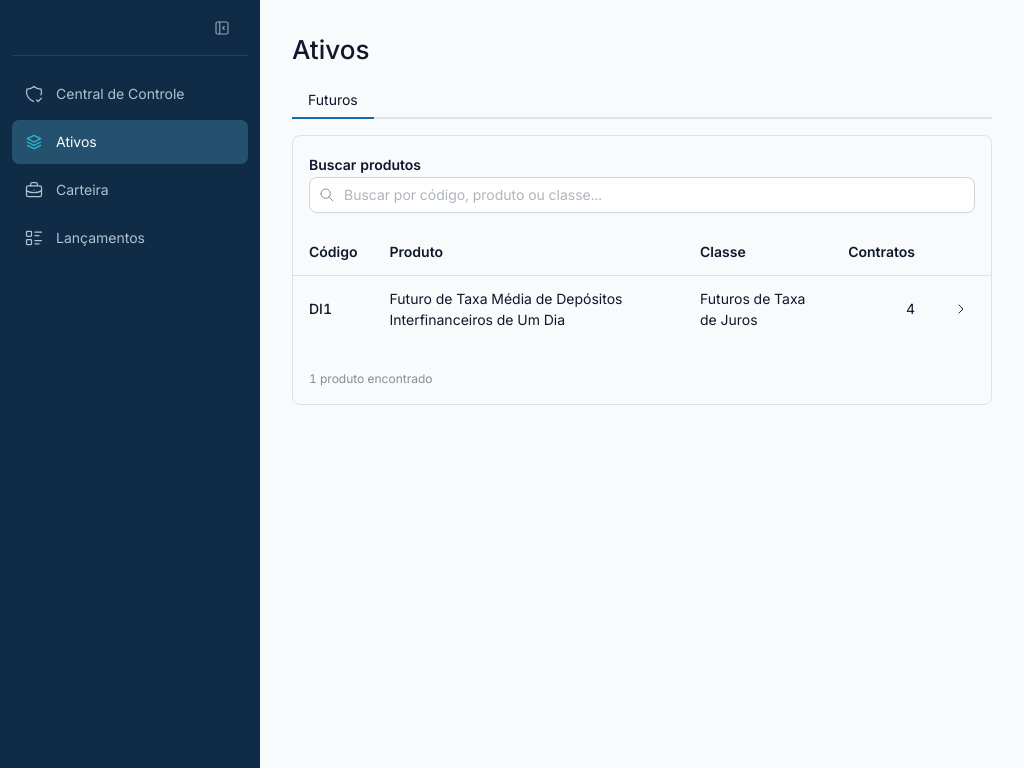
Test case: AppLayout › §11 collapses the sidebar and keeps every module reachable by name
Click the button named "Recolher navegação". click: coordinates (222, 28)
box: top-left (208, 14), bottom-right (236, 42)
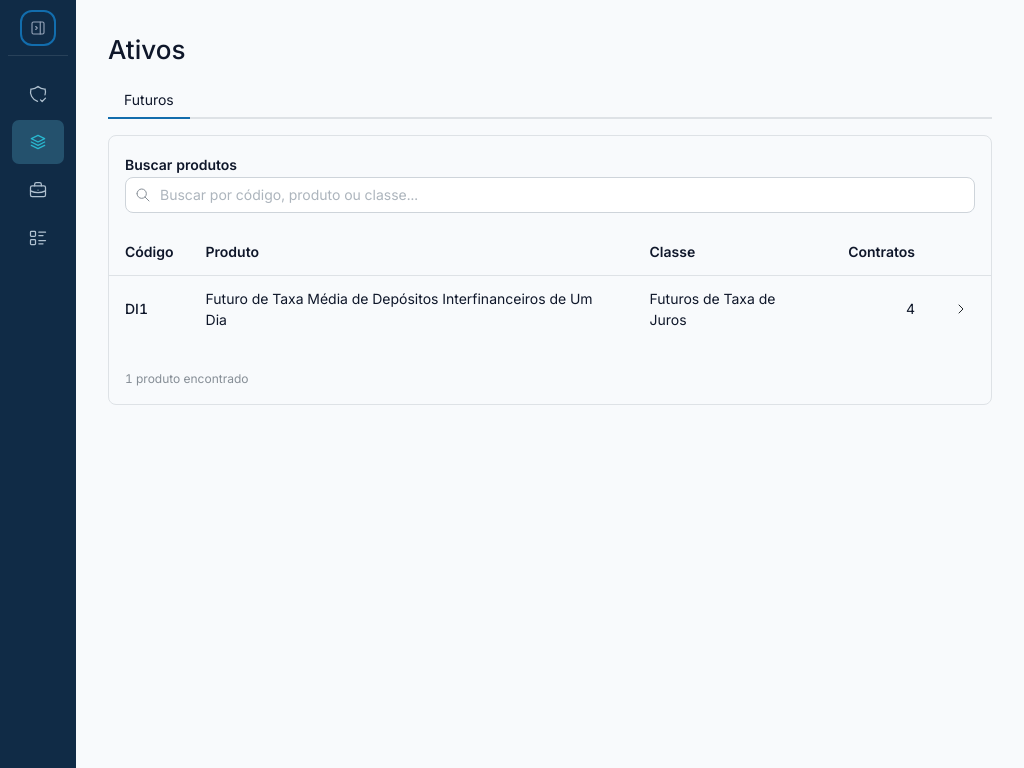
Expected: the link named "Central de Controle" is shown, top-left (28, 84), bottom-right (48, 104)
Expected: the button named "Expandir navegação" is collapsed, top-left (24, 14), bottom-right (52, 42)
